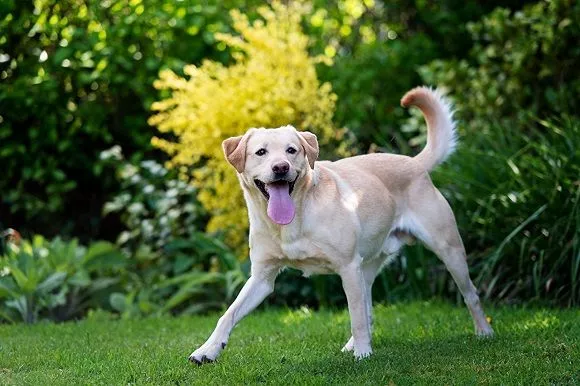dog: (158, 76, 505, 351)
